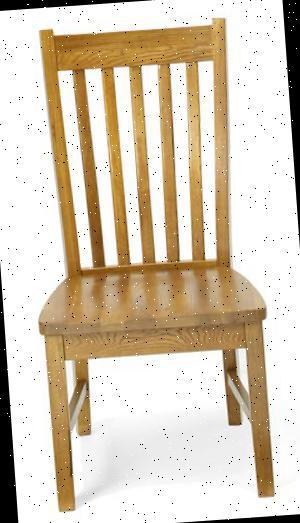Silla: (20, 14, 281, 508)
